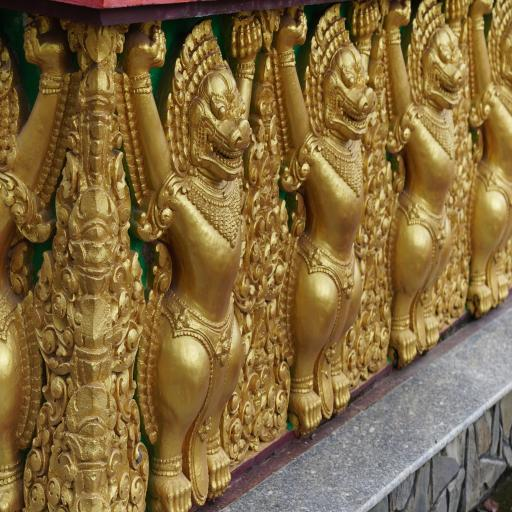than: (118, 12, 270, 512), (269, 3, 388, 429), (370, 0, 468, 354), (0, 15, 69, 512), (456, 0, 512, 322)
